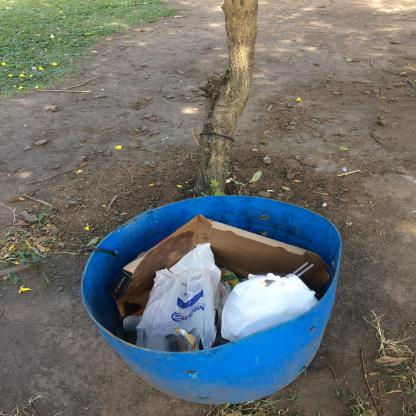karton: (107, 214, 334, 318), (219, 268, 242, 290)
plastik: (135, 242, 221, 354), (220, 274, 318, 342), (174, 328, 196, 352)
